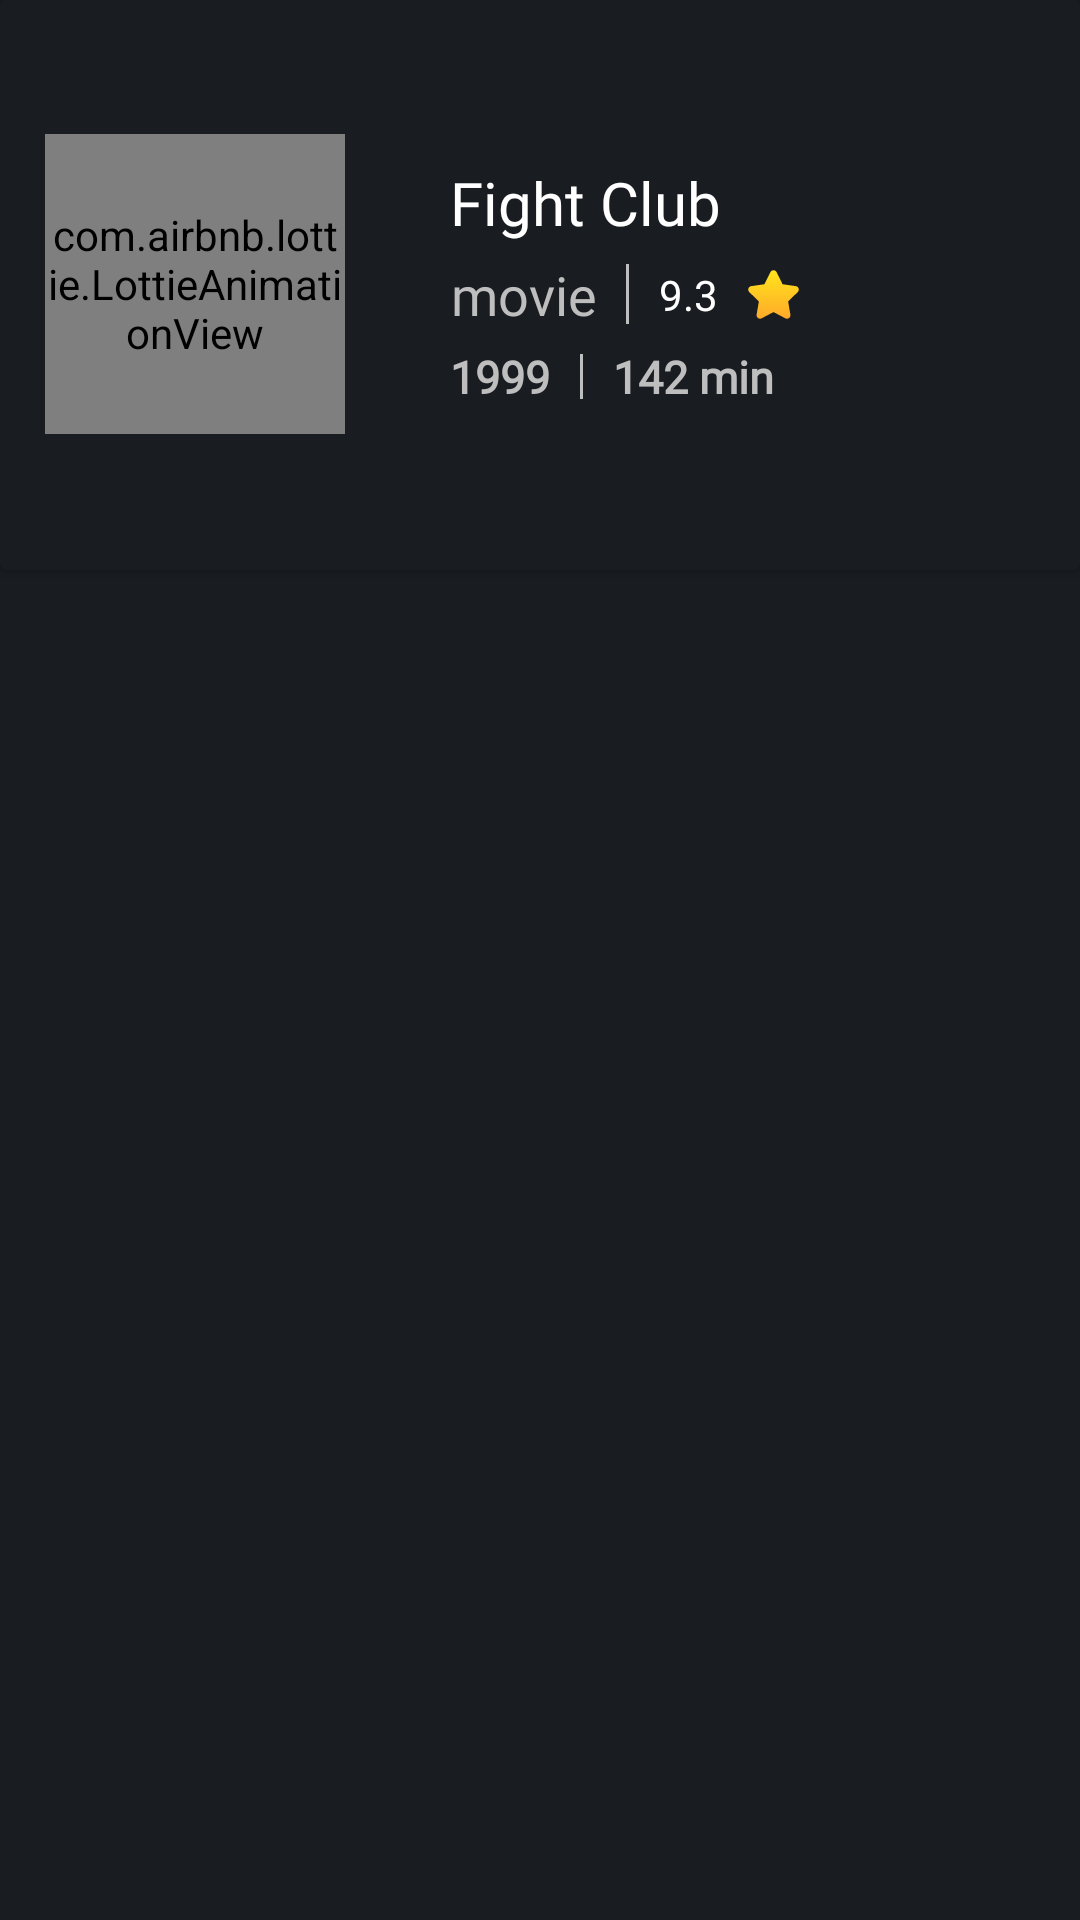

Where to tap for icons on this 1080 × 1920 app screen, as [x,y]:
star: [773,294]
